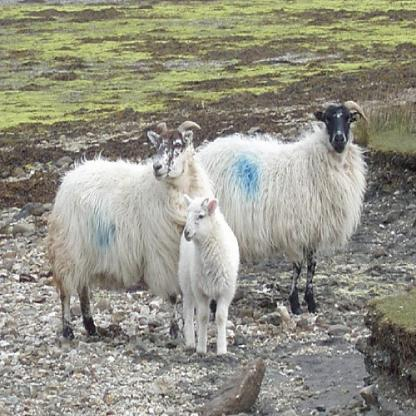sheep: (44, 117, 216, 344), (200, 94, 369, 316), (176, 191, 242, 359)
